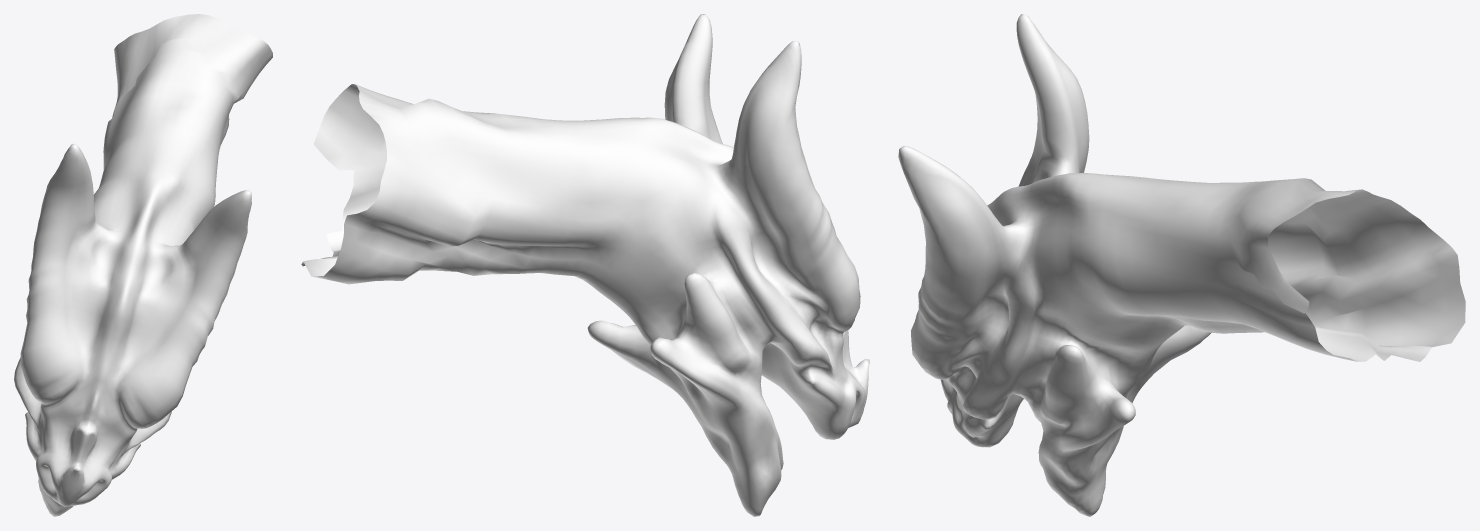
The model's file is Cabeza2.obj.
3 renders of one model, left to right at view 1: azimuth 30°, elevation 25°; view 2: azimuth 150°, elevation 25°; view 3: azimuth 270°, elevation 25°, orthographic. The views are drawn at different scales.
Parts seen in each view (by area): view 1: Cabeza2; view 2: Cabeza2; view 3: Cabeza2.
Part boxes in pixels (x1=…): Cabeza2: x1=14, y1=14, x2=272, y2=516; Cabeza2: x1=301, y1=14, x2=869, y2=516; Cabeza2: x1=898, y1=14, x2=1465, y2=516.
Bounding box in the file's own units: 2.08 × 2.2 × 2.28.
Materials: 1 (1 with a texture image).
